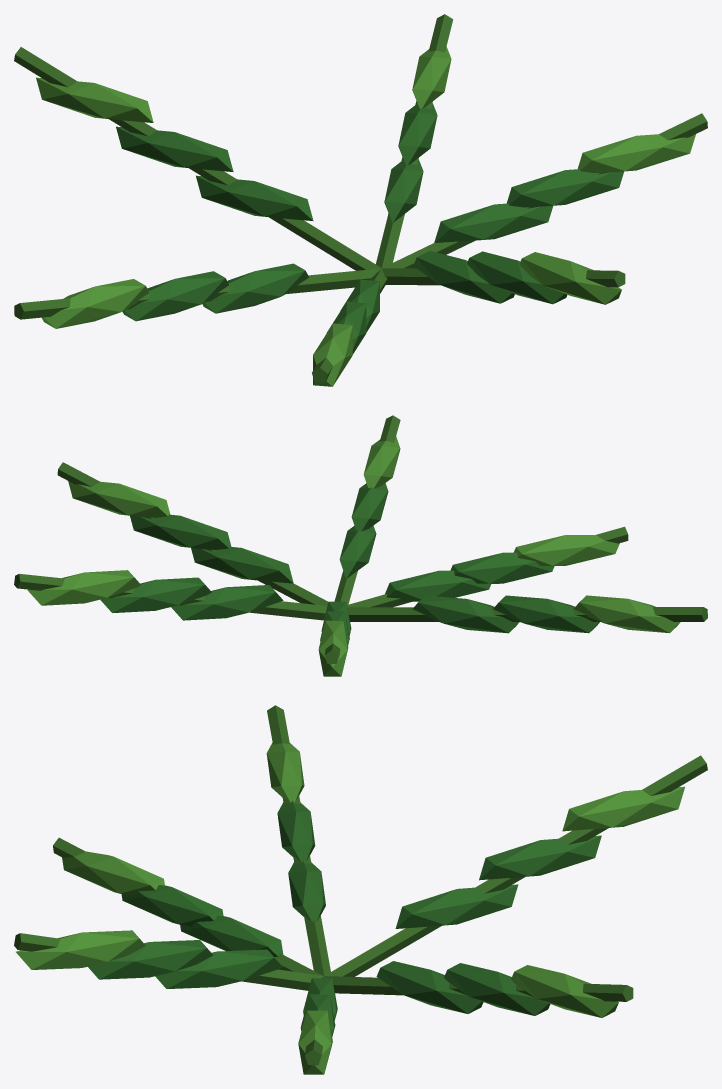
Rendered from fern_f.glb.
3 views of the same model, one above another, from view 1: azimuth 30°, elevation 25°; view 2: azimuth 150°, elevation 25°; view 3: azimuth 270°, elevation 25° (orthographic). The views are drawn at different scales.
Parts seen in each view (by area): view 1: Stem_3.005, Leaf_3_3.005, Leaf_3_1.005, Leaf_3_2.005, Leaf_1_3.005, Leaf_1_1.005, Leaf_1_2.005, Leaf_4_3.005, Leaf_4_1.005, Leaf_4_2.005, Leaf_6_3.001, Leaf_6_1.001 (+11 smaller); view 2: Leaf_2_3.005, Leaf_2_2.005, Leaf_2_1.005, Leaf_4_2.005, Leaf_4_1.005, Leaf_4_3.005, Leaf_1_3.005, Leaf_1_1.005, Leaf_5_3.005, Leaf_1_2.005, Leaf_5_1.005, Leaf_5_2.005 (+9 smaller); view 3: Stem_3.005, Leaf_6_3.001, Leaf_3_1.005, Leaf_3_2.005, Leaf_3_3.005, Leaf_6_1.001, Leaf_6_2.001, Leaf_2_3.005, Leaf_2_1.005, Leaf_2_2.005, Leaf_5_3.005, Leaf_5_2.005 (+11 smaller).
Part boxes in pixels (x1,y1,x2,y2): Stem_3.005: (14,47,381,270); Leaf_3_3.005: (36,77,153,122); Leaf_3_1.005: (196,175,313,221); Leaf_3_2.005: (116,126,233,171); Leaf_1_3.005: (577,134,695,173); Leaf_1_1.005: (434,203,553,242); Leaf_1_2.005: (506,169,624,207); Leaf_4_3.005: (42,279,149,328); Leaf_4_1.005: (202,263,308,313); Leaf_4_2.005: (122,271,228,321); Leaf_6_3.001: (519,252,621,304); Leaf_6_1.001: (413,251,514,303); Leaf_2_3.005: (27,570,140,605); Leaf_2_2.005: (100,577,211,612); Leaf_2_1.005: (171,585,283,620); Leaf_4_2.005: (493,595,599,633); Leaf_4_1.005: (412,595,519,633); Leaf_4_3.005: (574,595,680,633); Leaf_1_3.005: (68,481,170,517); Leaf_1_1.005: (191,546,293,583); Leaf_5_3.005: (513,535,619,565); Leaf_1_2.005: (130,514,231,549); Leaf_5_1.005: (385,570,491,601); Leaf_5_2.005: (450,552,554,583); Stem_3.005: (324,755,707,976); Leaf_6_3.001: (16,930,145,969); Leaf_3_1.005: (395,884,518,928); Leaf_3_2.005: (479,835,601,880); Leaf_3_3.005: (562,786,684,831); Leaf_6_1.001: (155,949,282,988); Leaf_6_2.001: (88,940,212,979); Leaf_2_3.005: (511,965,618,1017); Leaf_2_1.005: (376,961,483,1013); Leaf_2_2.005: (444,963,550,1015); Leaf_5_3.005: (62,851,164,895); Leaf_5_2.005: (121,885,223,926).
Bounding box in the file's own units: 2.34 × 0.4555 × 1.94.
